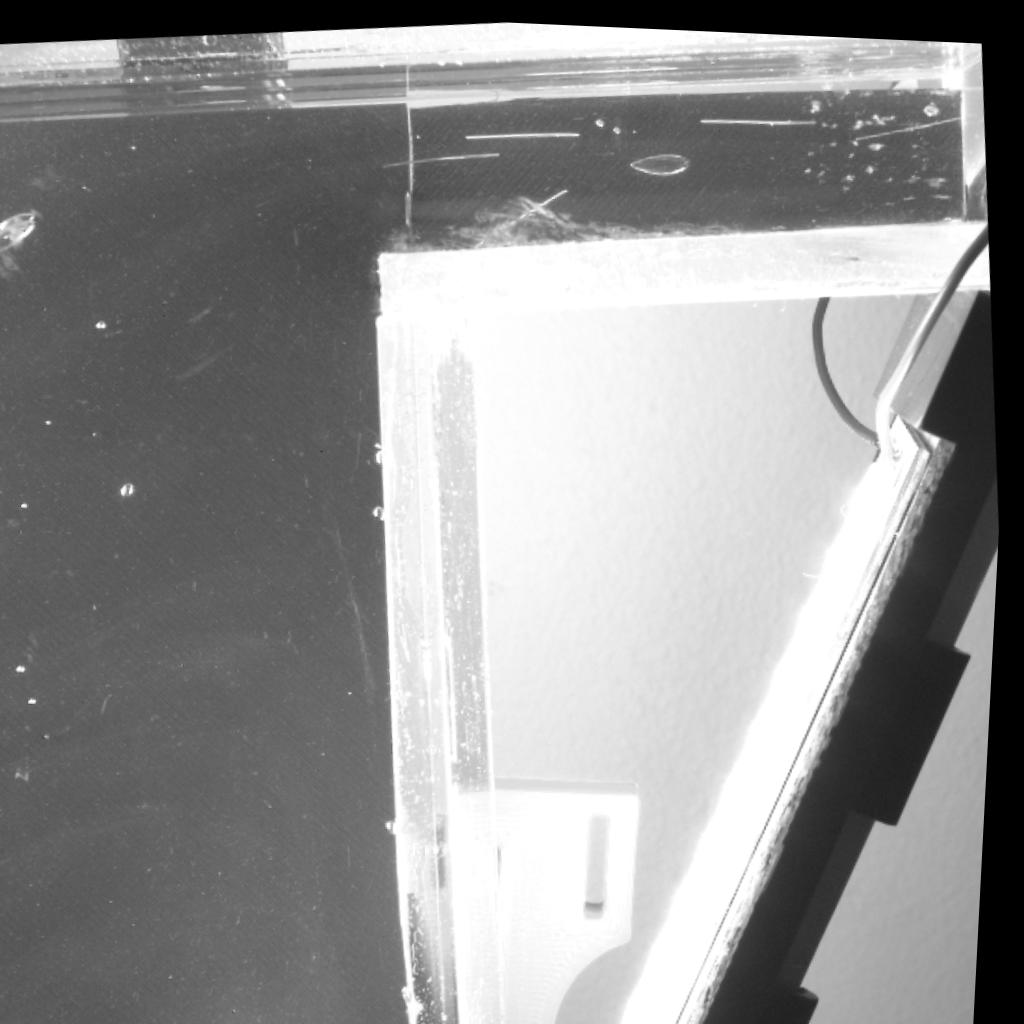Fiber: (469, 180, 569, 248), (845, 98, 977, 134), (382, 148, 503, 164), (466, 125, 580, 138), (704, 110, 817, 117)
